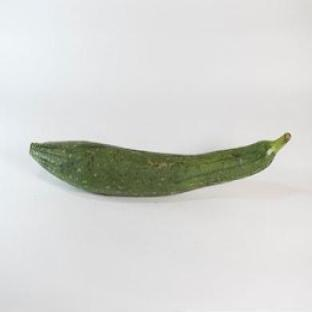Zucchini: (30, 134, 290, 196)
